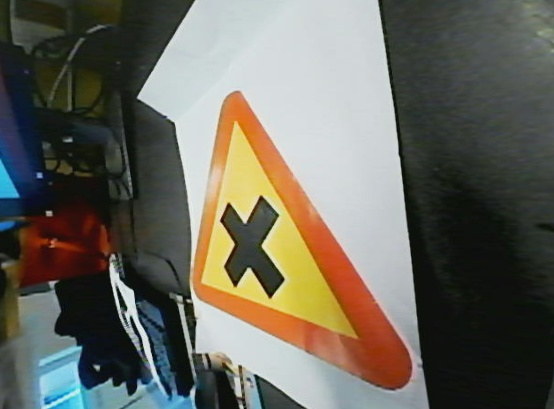junction: (181, 85, 419, 394)
